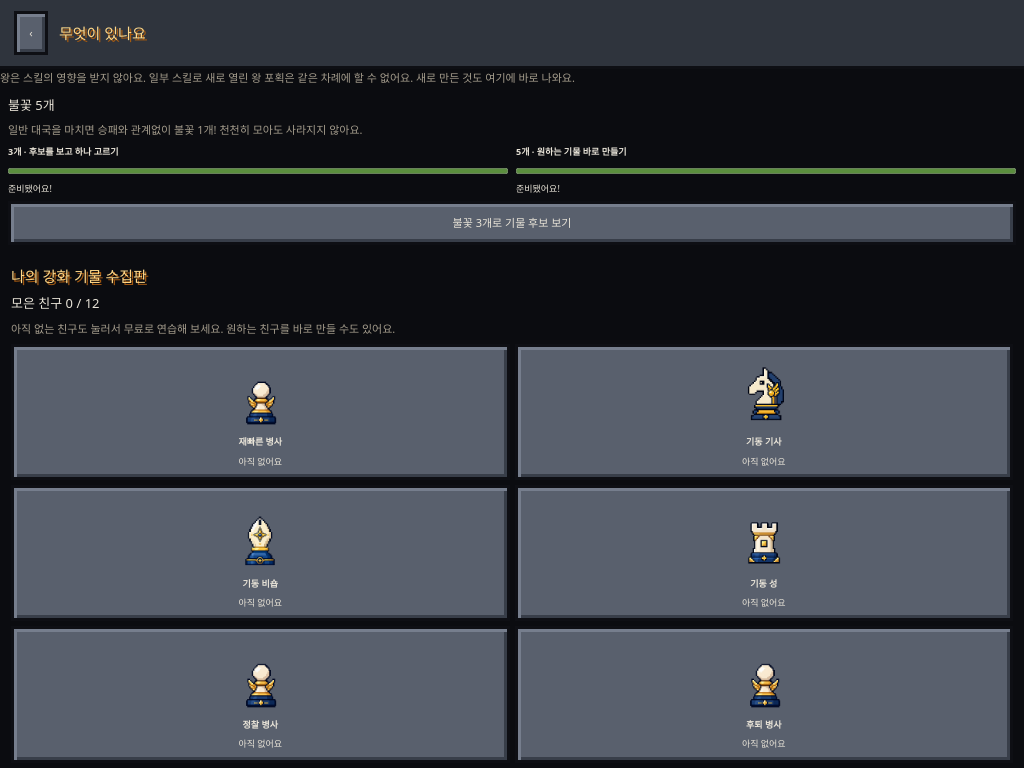
Test case: understandable upgrade discovery › opens unowned upgrade details from the album and supports the existing forge path
The image size is (1024, 768).
Expected: the message with test id "upgrade-collection-count" shows "0 / 12", top-left (11, 294), bottom-right (100, 312)
Click the button with test id "upgrade-album-piece.pawn-plus": (260, 412) top-left (11, 344), bottom-right (510, 480)
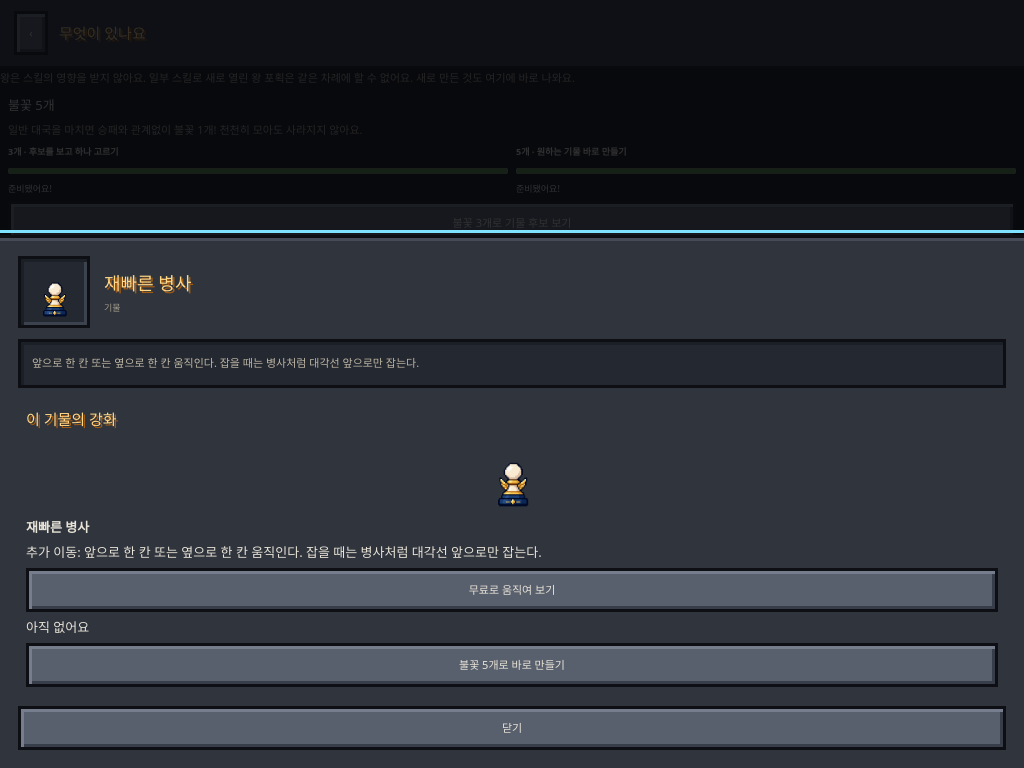
Click the button with test id "upgrade-forge-piece.pawn-plus": (512, 665) top-left (26, 643), bottom-right (998, 687)
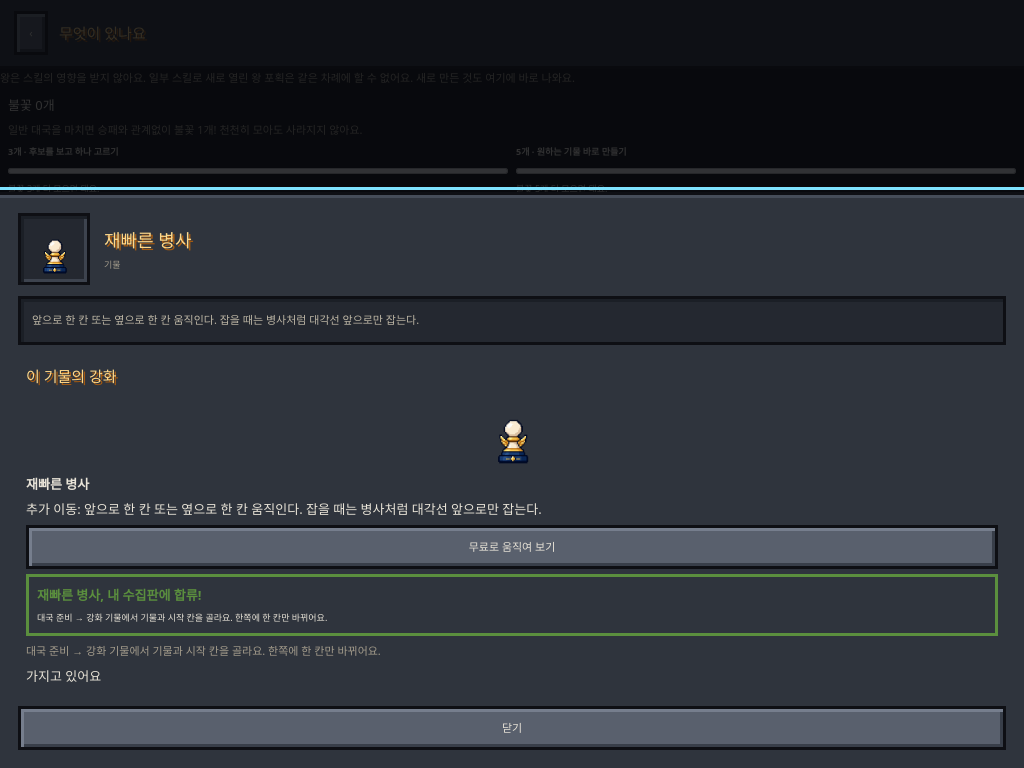
Expected: the message with test id "progression-sparks" shows "0", top-left (8, 96), bottom-right (55, 114)
Expected: the message with test id "upgrade-acquired" shows "재빠른 병사", top-left (37, 586), bottom-right (202, 604)
Expected: the message with test id "upgrade-collection-count" shows "1 / 12", top-left (11, 294), bottom-right (100, 312)
